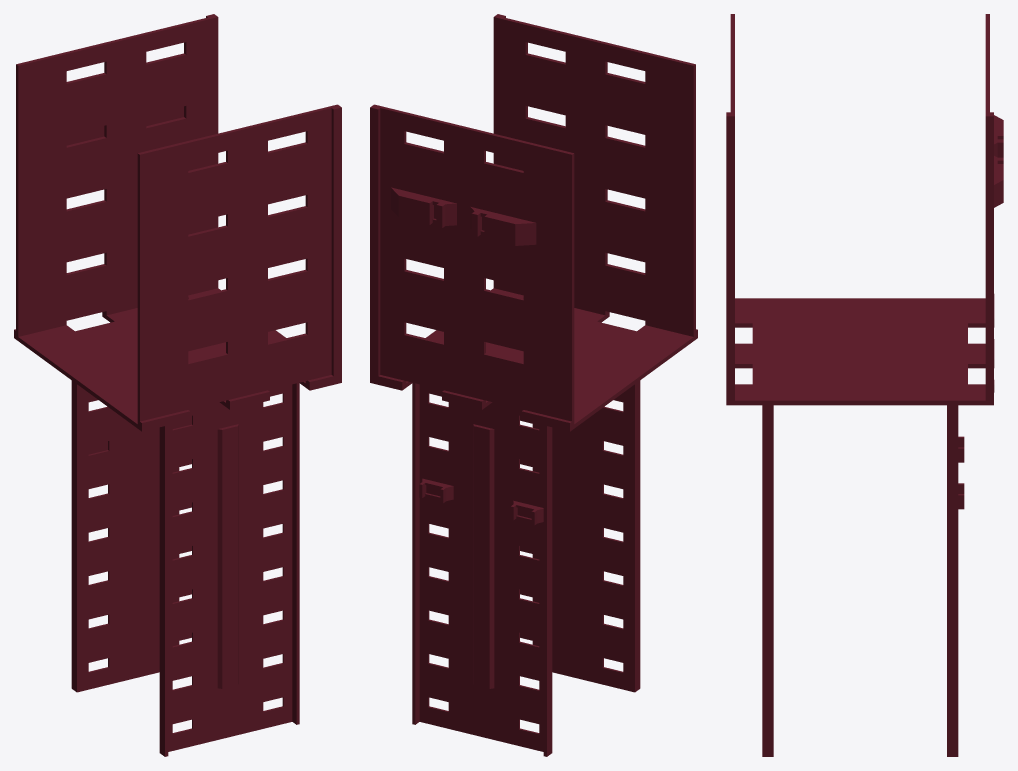
The model's file is pc_case_extra_holder_a.fbx.
The picture shows the model from 3 angles, left to right: view 1: azimuth 30°, elevation 25°; view 2: azimuth 150°, elevation 25°; view 3: azimuth 270°, elevation 25°; orthographic projection. The views are drawn at different scales.
Parts seen in each view (by area): view 1: pc_case_extra_holder_a; view 2: pc_case_extra_holder_a; view 3: pc_case_extra_holder_a.
Boxes of the visible parts, x1,y1,x2,y2 form: pc_case_extra_holder_a: (14, 14, 341, 756); pc_case_extra_holder_a: (370, 14, 697, 756); pc_case_extra_holder_a: (726, 14, 1003, 756).
Bounding box in the file's own units: 14.03 × 41.76 × 16.07.
